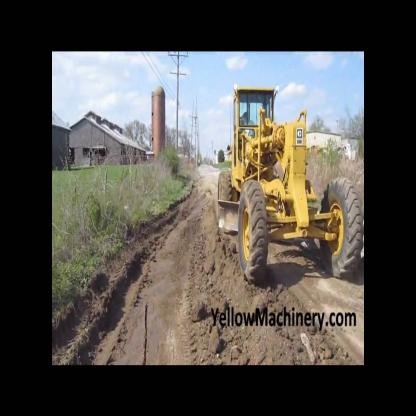bull_dozer/loader/grader: (214, 81, 362, 288)
